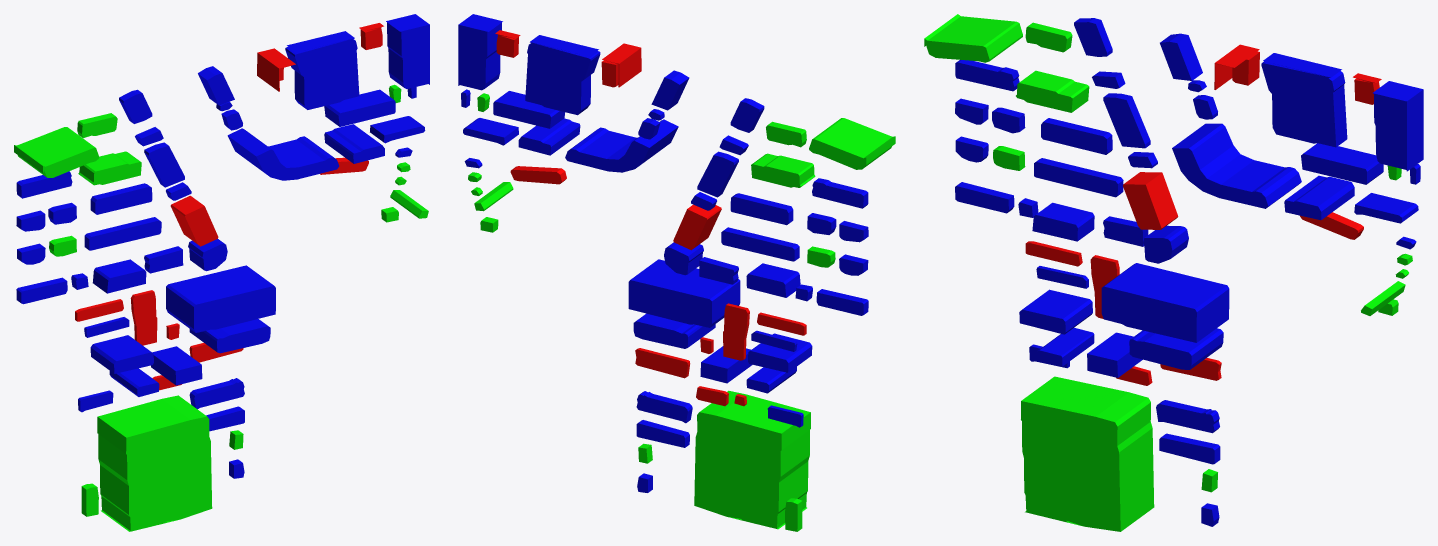
3 renders of one model, left to right at view 1: azimuth 30°, elevation 25°; view 2: azimuth 150°, elevation 25°; view 3: azimuth 330°, elevation 25°, orthographic. The views are drawn at different scales.
Visible parts, largest first — view 1: building_55, building_41, building_2, building_19, building_4, building_9, building_17, building_47, building_45, building_20, building_13, building_27 (+28 smaller); view 2: building_55, building_41, building_2, building_19, building_4, building_9, building_45, building_13, building_17, building_31, building_47, building_20 (+28 smaller); view 3: building_55, building_41, building_2, building_19, building_4, building_9, building_45, building_27, building_17, building_47, building_13, building_20 (+29 smaller).
Boxes of the visible parts, x1,y1,x2,y2 form: building_55: [97, 395, 212, 531]; building_41: [166, 265, 275, 332]; building_2: [285, 31, 359, 109]; building_19: [227, 128, 339, 180]; building_4: [386, 14, 429, 88]; building_9: [14, 127, 99, 177]; building_17: [324, 89, 395, 126]; building_47: [90, 335, 153, 373]; building_45: [189, 319, 270, 353]; building_20: [324, 124, 384, 163]; building_13: [78, 151, 141, 185]; building_27: [170, 195, 218, 246]; building_55: [694, 390, 810, 529]; building_41: [628, 259, 740, 327]; building_2: [525, 35, 600, 115]; building_19: [565, 119, 678, 172]; building_4: [458, 14, 502, 90]; building_9: [809, 118, 895, 169]; building_45: [633, 313, 715, 348]; building_13: [751, 153, 815, 187]; building_17: [493, 91, 564, 128]; building_31: [721, 227, 799, 261]; building_47: [748, 333, 812, 372]; building_20: [518, 118, 580, 155]; building_55: [1021, 376, 1154, 531]; building_41: [1101, 263, 1229, 342]; building_2: [1261, 53, 1347, 147]; building_19: [1172, 123, 1301, 208]; building_4: [1373, 81, 1423, 171]; building_9: [924, 14, 1022, 62]; building_45: [1129, 328, 1223, 369]; building_27: [1123, 172, 1178, 229]; building_17: [1301, 143, 1383, 184]; building_47: [1019, 289, 1092, 334]; building_13: [1016, 70, 1089, 112]; building_20: [1284, 175, 1354, 220].
Bounding box in the file's own units: 2047 × 2047 × 255.
